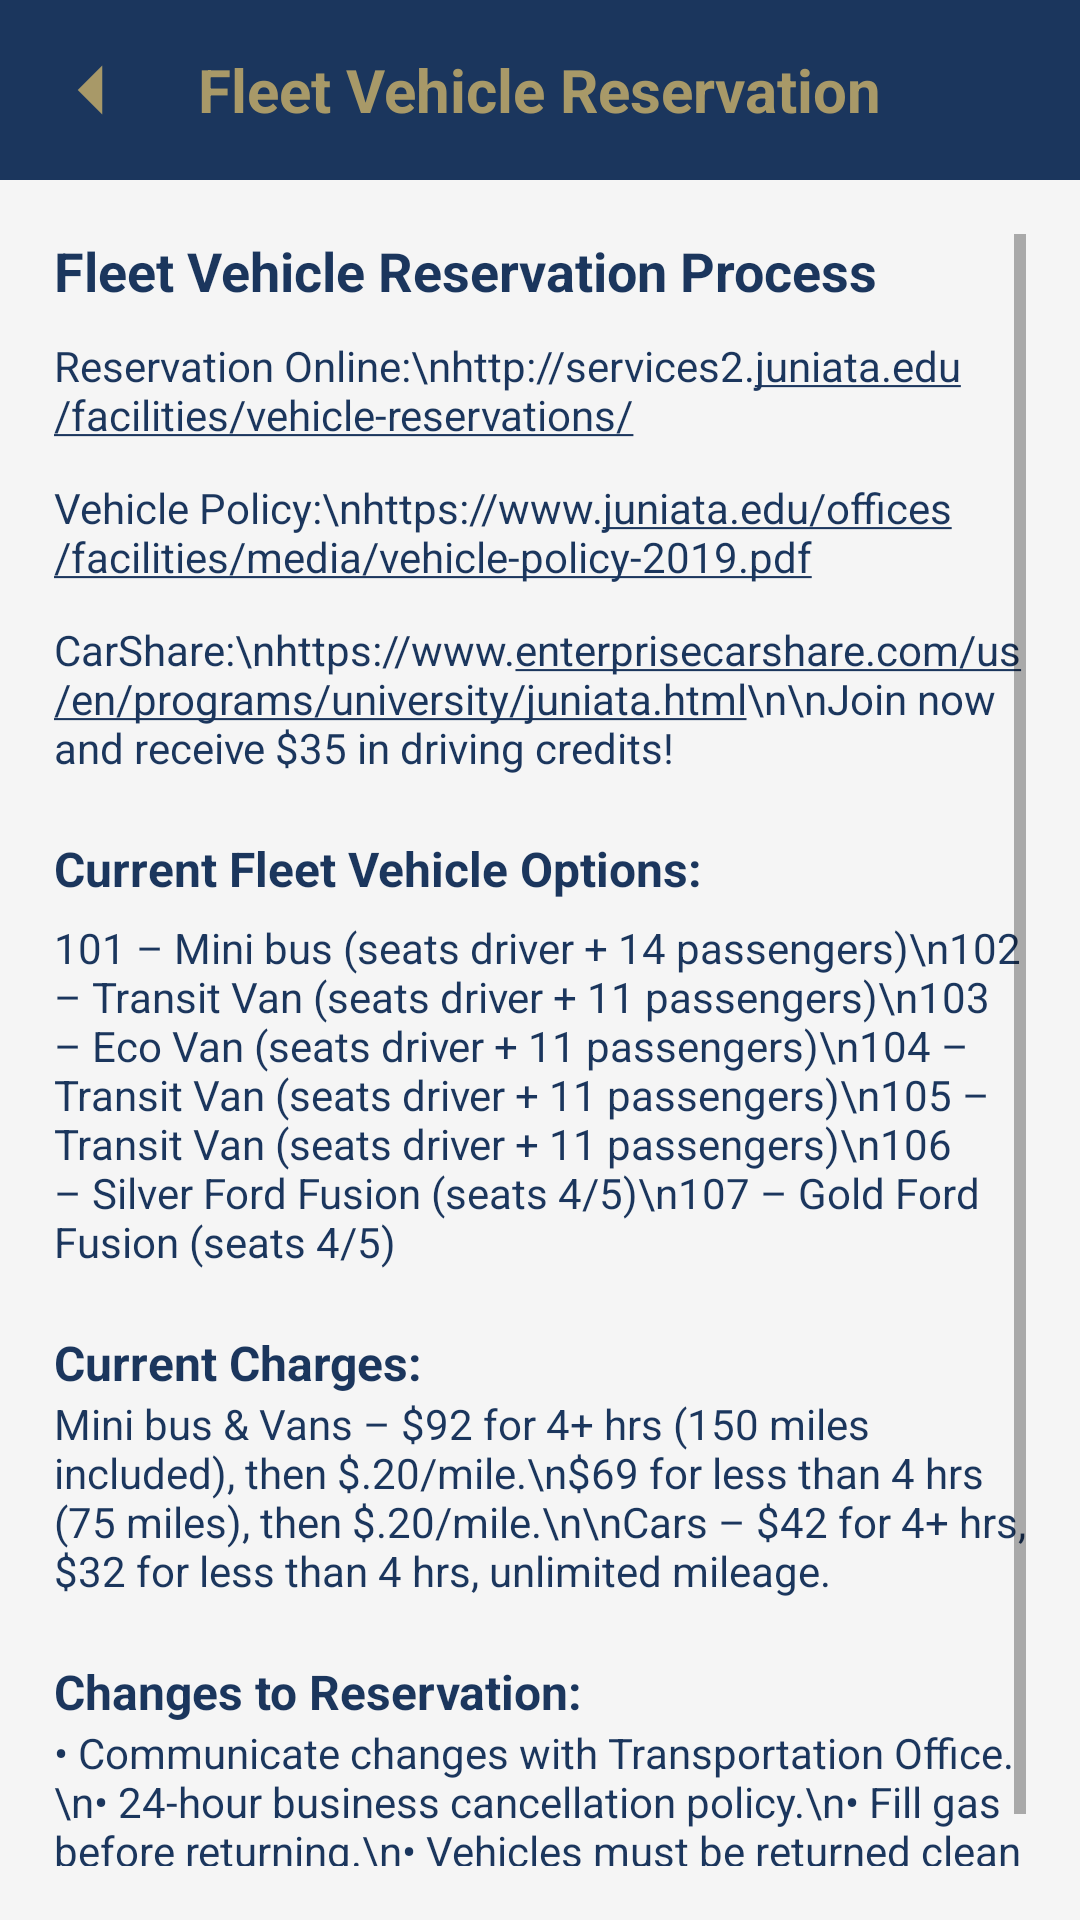

Point at icon controls on the screen. Image size 1080*1920, points as [x,y].
back: [90,90]
